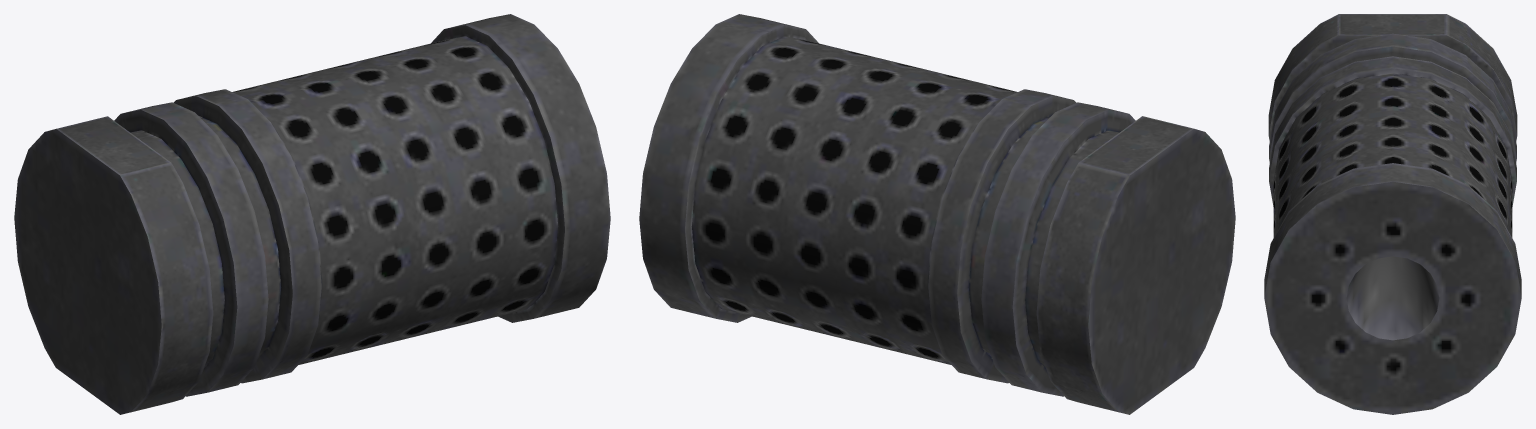
File: ST_Muzzle_Compensater_SR.FBX
3 views of the same model, side by side, from view 1: azimuth 30°, elevation 25°; view 2: azimuth 150°, elevation 25°; view 3: azimuth 270°, elevation 25° (orthographic). The views are drawn at different scales.
Parts seen in each view (by area): view 1: ST_Muzzle_Compensater_SR; view 2: ST_Muzzle_Compensater_SR; view 3: ST_Muzzle_Compensater_SR.
Boxes of the visible parts, x1,y1,x2,y2 form: ST_Muzzle_Compensater_SR: (14, 14, 610, 414); ST_Muzzle_Compensater_SR: (639, 14, 1235, 414); ST_Muzzle_Compensater_SR: (1264, 14, 1521, 414).
Bounding box in the file's own units: 4.55 × 2.7 × 2.7.
Materials: 1 (1 with a texture image).
